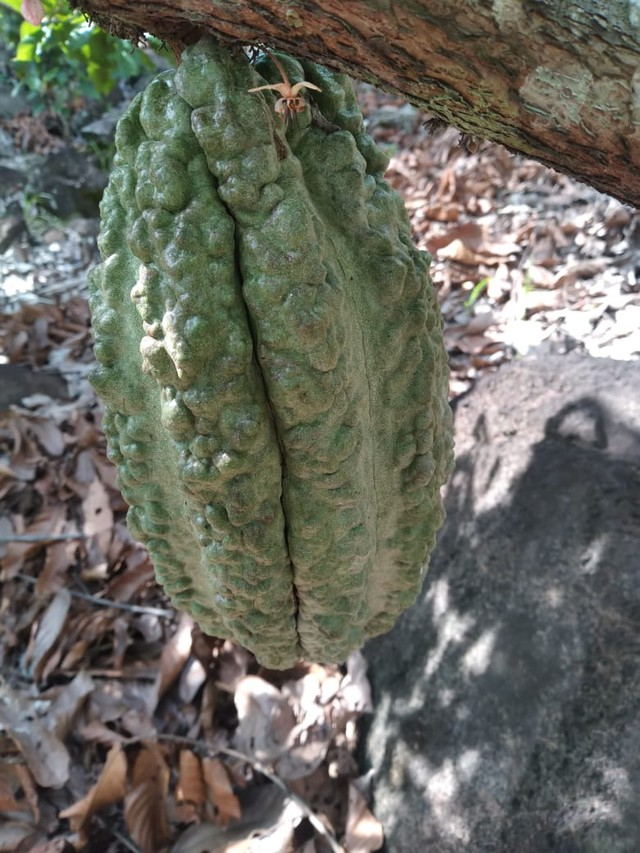Health: (53, 16, 492, 701)
